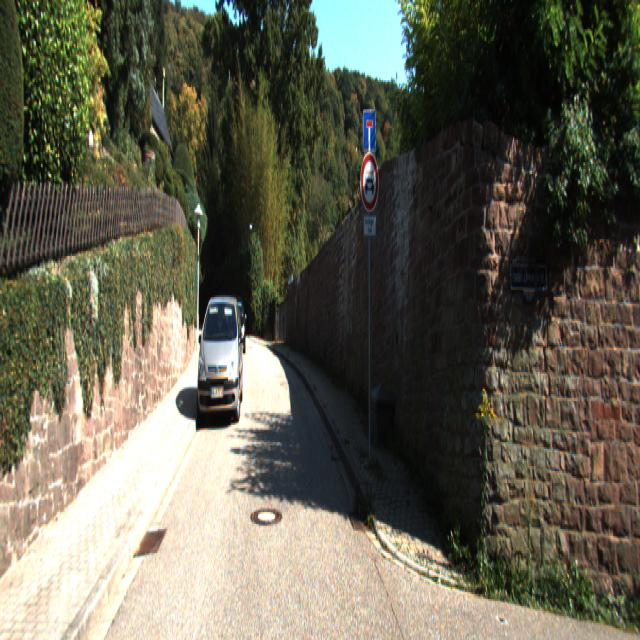Car: (196, 289, 245, 431), (222, 298, 246, 362)
